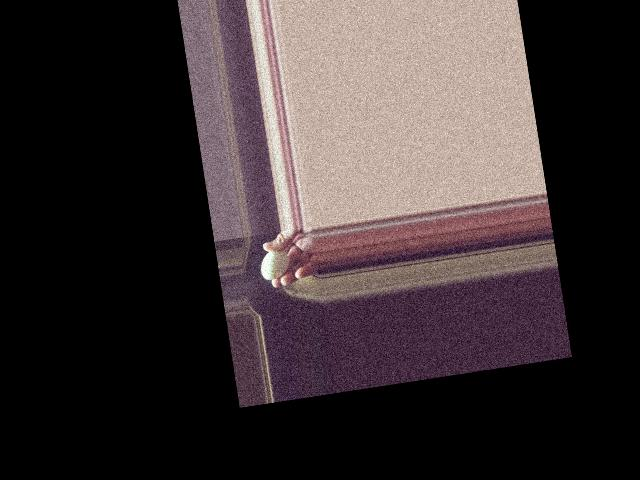egg: (258, 248, 292, 280)
